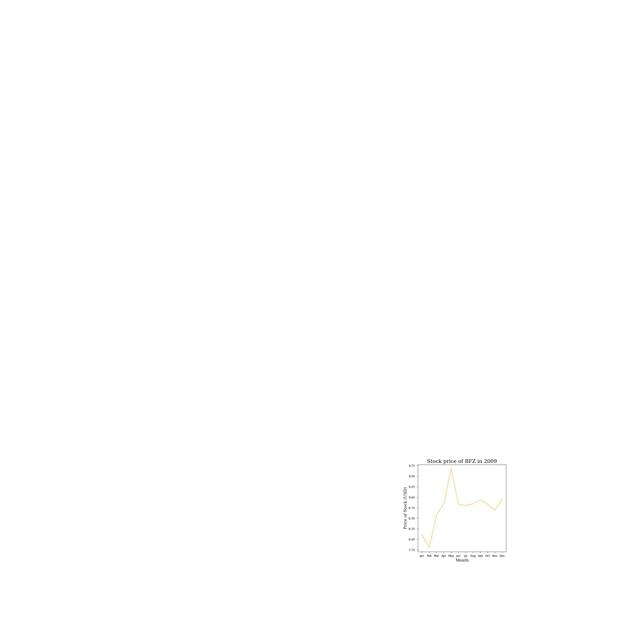Graph: (378, 451, 542, 564)
